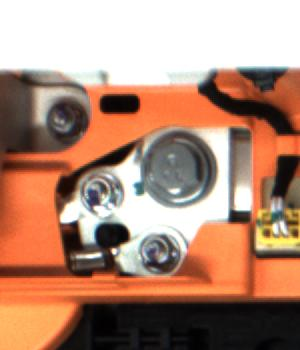nut_b: (136, 127, 224, 211)
screw_s: (41, 98, 93, 148), (136, 228, 184, 275), (84, 175, 122, 209)
